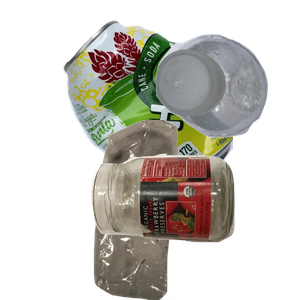glass: (89, 153, 300, 300)
metal: (60, 18, 300, 198)
plastic: (153, 31, 300, 161)
trash: (70, 120, 256, 300)
